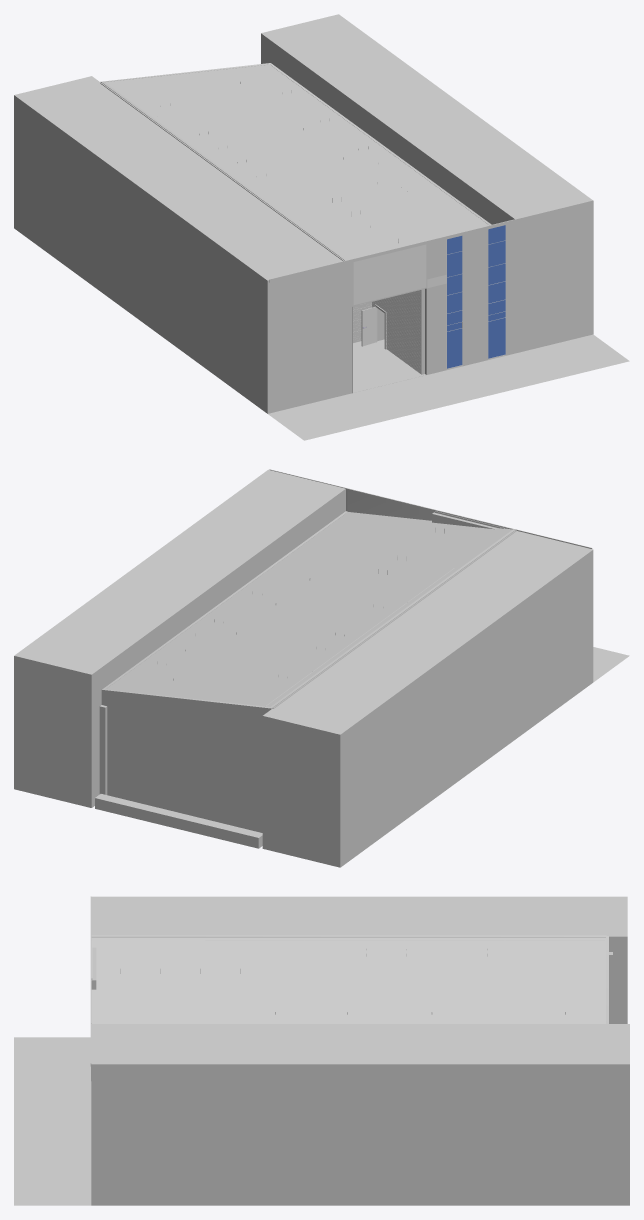
Rendered from NaveV1.4.fbx.
The picture shows the model from 3 angles, top to bottom: view 1: azimuth 30°, elevation 25°; view 2: azimuth 150°, elevation 25°; view 3: azimuth 270°, elevation 25°; orthographic projection. The views are drawn at different scales.
Parts seen in each view (by area): view 1: Cube.116, Techo, Plane, Slice, Estrucutra, Cutter.010, Plane.014, Cube.097, Cube.113, Cube.105, Vigas_supoeriores; view 2: Cube.116, Techo, Estrucutra, Cube.009, Slice, Pilares.001, Plane, Vigas_supoeriores; view 3: Cube.116, Techo, Plane, Estrucutra, Vigas_supoeriores.
Part boxes in pixels (x1,y1,x2,y2): Cube.116: [14, 14, 593, 413]; Techo: [105, 64, 488, 259]; Plane: [268, 334, 629, 440]; Slice: [377, 204, 515, 375]; Estrucutra: [100, 63, 463, 394]; Cutter.010: [353, 244, 426, 304]; Plane.014: [372, 290, 420, 373]; Cube.097: [488, 263, 505, 358]; Cube.113: [269, 200, 592, 282]; Cube.105: [447, 274, 462, 368]; Vigas_supoeriores: [100, 83, 344, 261]; Cube.116: [14, 469, 593, 867]; Techo: [106, 512, 512, 706]; Estrucutra: [101, 510, 515, 832]; Cube.009: [95, 794, 262, 848]; Slice: [295, 488, 437, 549]; Pilares.001: [99, 705, 107, 794]; Plane: [593, 647, 629, 682]; Vigas_supoeriores: [272, 530, 516, 708]; Cube.116: [91, 896, 629, 1205]; Techo: [91, 937, 605, 1023]; Plane: [14, 1037, 91, 1205]; Estrucutra: [91, 936, 608, 1023]; Vigas_supoeriores: [91, 935, 606, 935].
Bounding box in the file's own units: 1948 × 811 × 3016.
